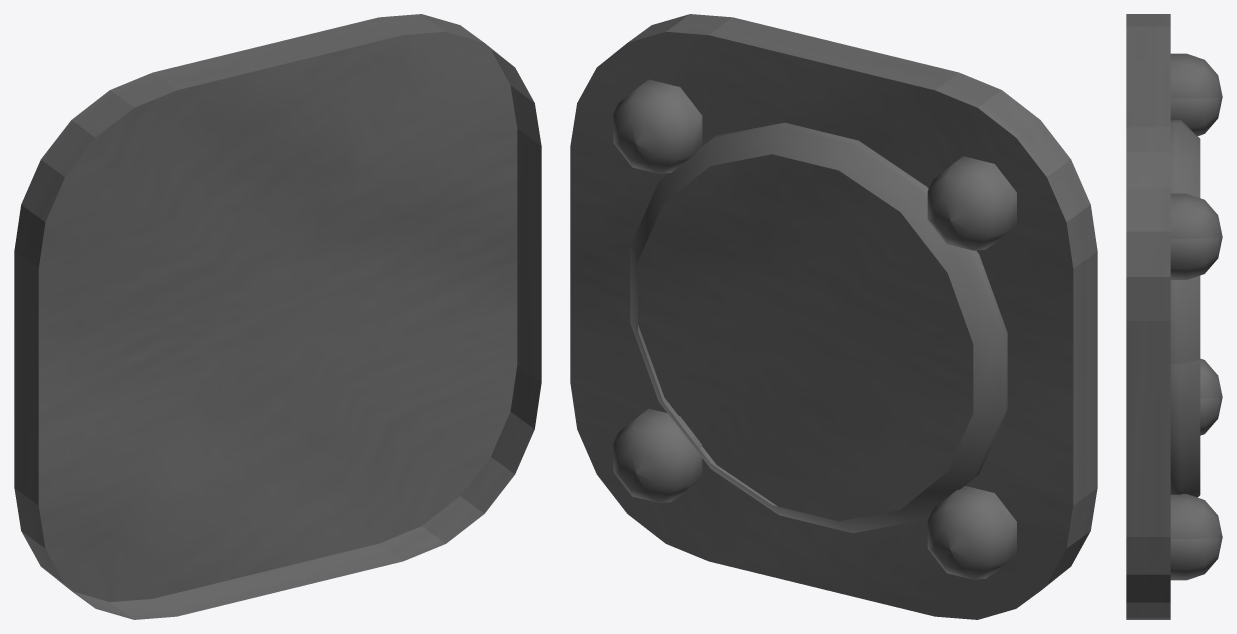
Rendered from polebase_large_squircle.obj.
3 views of the same model, side by side, from view 1: azimuth 30°, elevation 25°; view 2: azimuth 150°, elevation 25°; view 3: azimuth 270°, elevation 25° (orthographic). The views are drawn at different scales.
Parts seen in each view (by area): view 1: polebase_large_squircle; view 2: polebase_large_squircle; view 3: polebase_large_squircle.
Boxes of the visible parts, box(x1,y1,x2,y2) form: polebase_large_squircle: box(14, 14, 541, 619); polebase_large_squircle: box(570, 14, 1097, 619); polebase_large_squircle: box(1126, 14, 1222, 619).
Bounding box in the file's own units: 1.11 × 1.11 × 0.2025.
